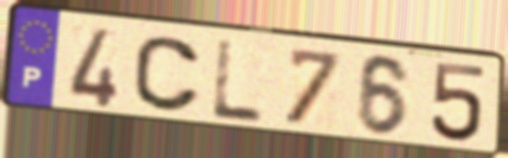4: (66, 25, 123, 110)
5: (430, 60, 489, 145)
6: (353, 53, 417, 139)
7: (283, 46, 343, 129)
C: (130, 34, 204, 115)
L: (208, 38, 268, 127)
